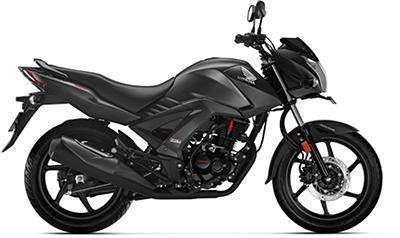motorbike: (1, 1, 383, 233)
